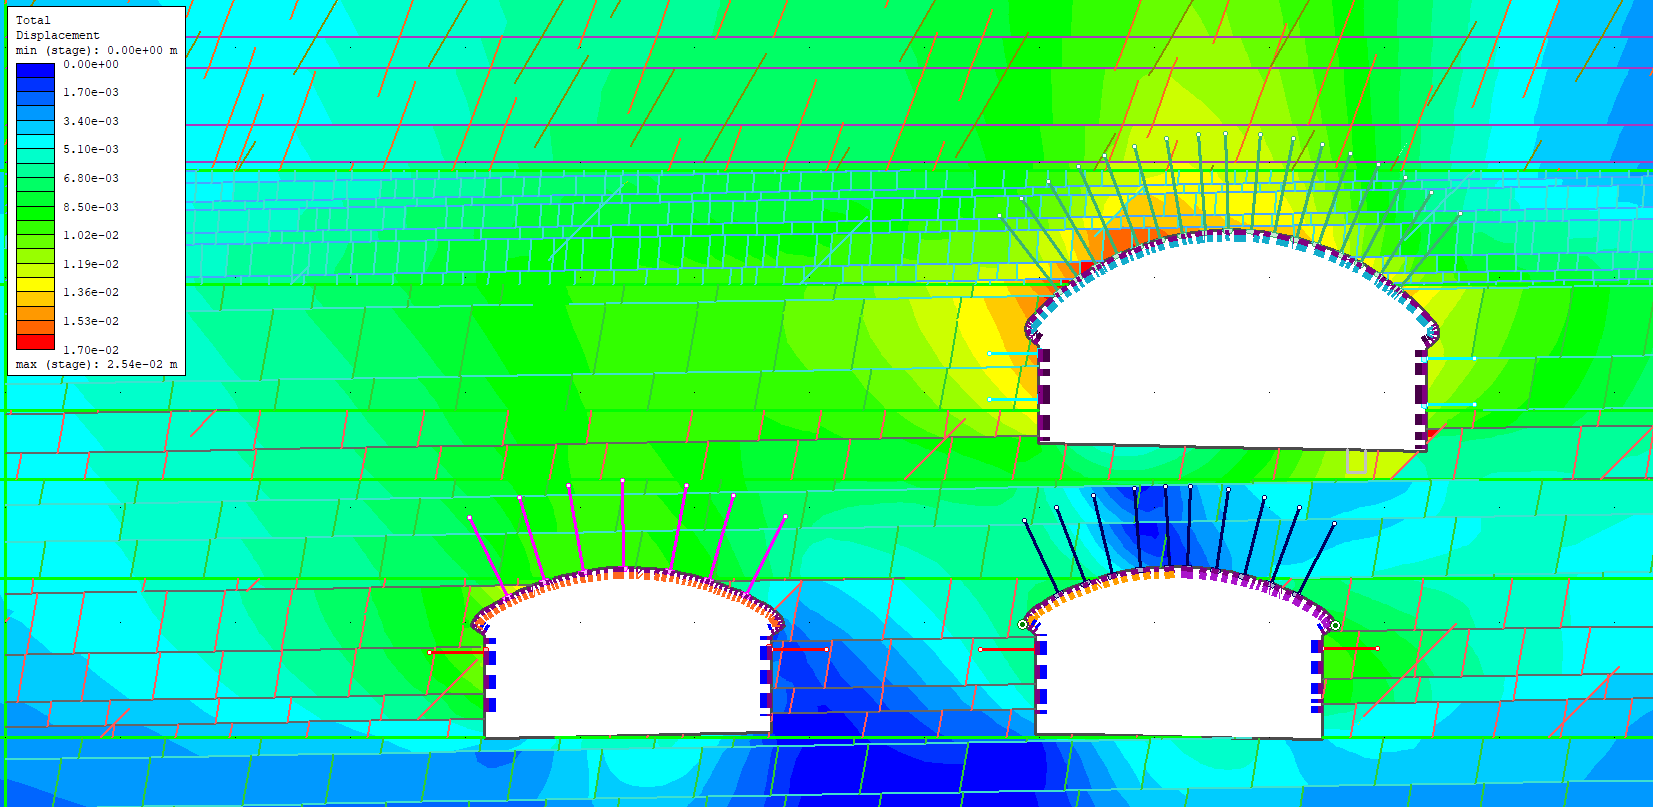crown: (594, 531, 666, 565), (1146, 540, 1236, 565), (1194, 202, 1277, 222)
label: (7, 7, 183, 374)
tunnel-opening: (1024, 227, 1441, 454), (473, 565, 784, 739), (1024, 567, 1339, 733)
